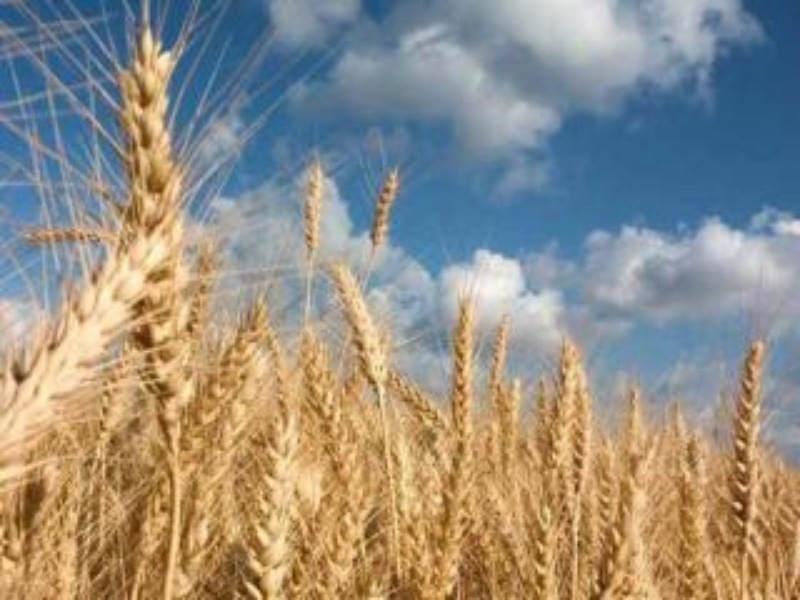wheat: (84, 1, 214, 453), (281, 137, 419, 504), (11, 194, 201, 452), (520, 332, 664, 581), (235, 386, 332, 599), (178, 283, 273, 488), (708, 327, 784, 572), (435, 298, 529, 489)
